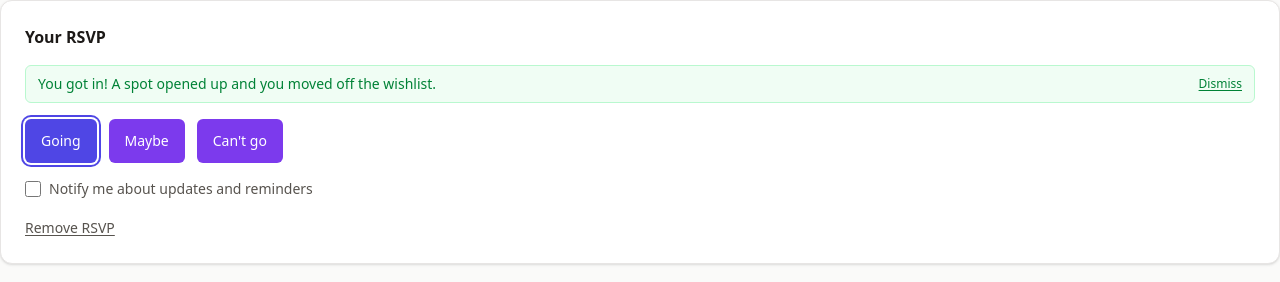
RsvpControls › clears status/position/promotion on cancel success
Click the button "Remove RSVP" at (70, 228), box [25, 218, 115, 238]
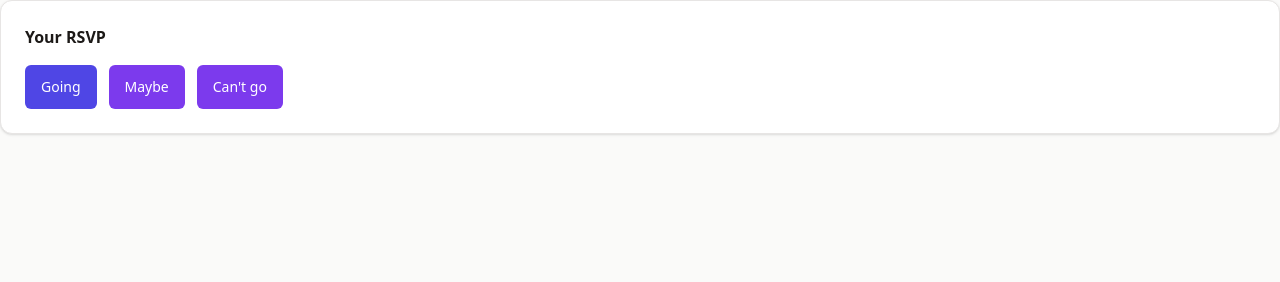
expect the button "Remove RSVP" is gone: met
